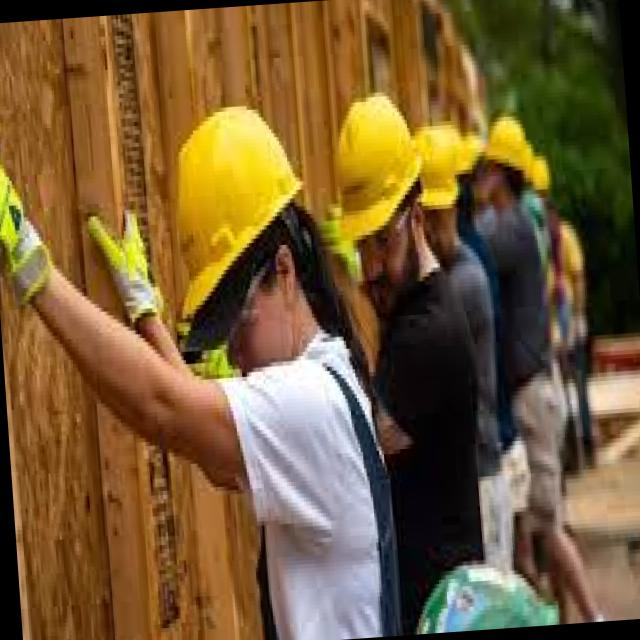gloved: (86, 202, 166, 328), (0, 134, 54, 304)
